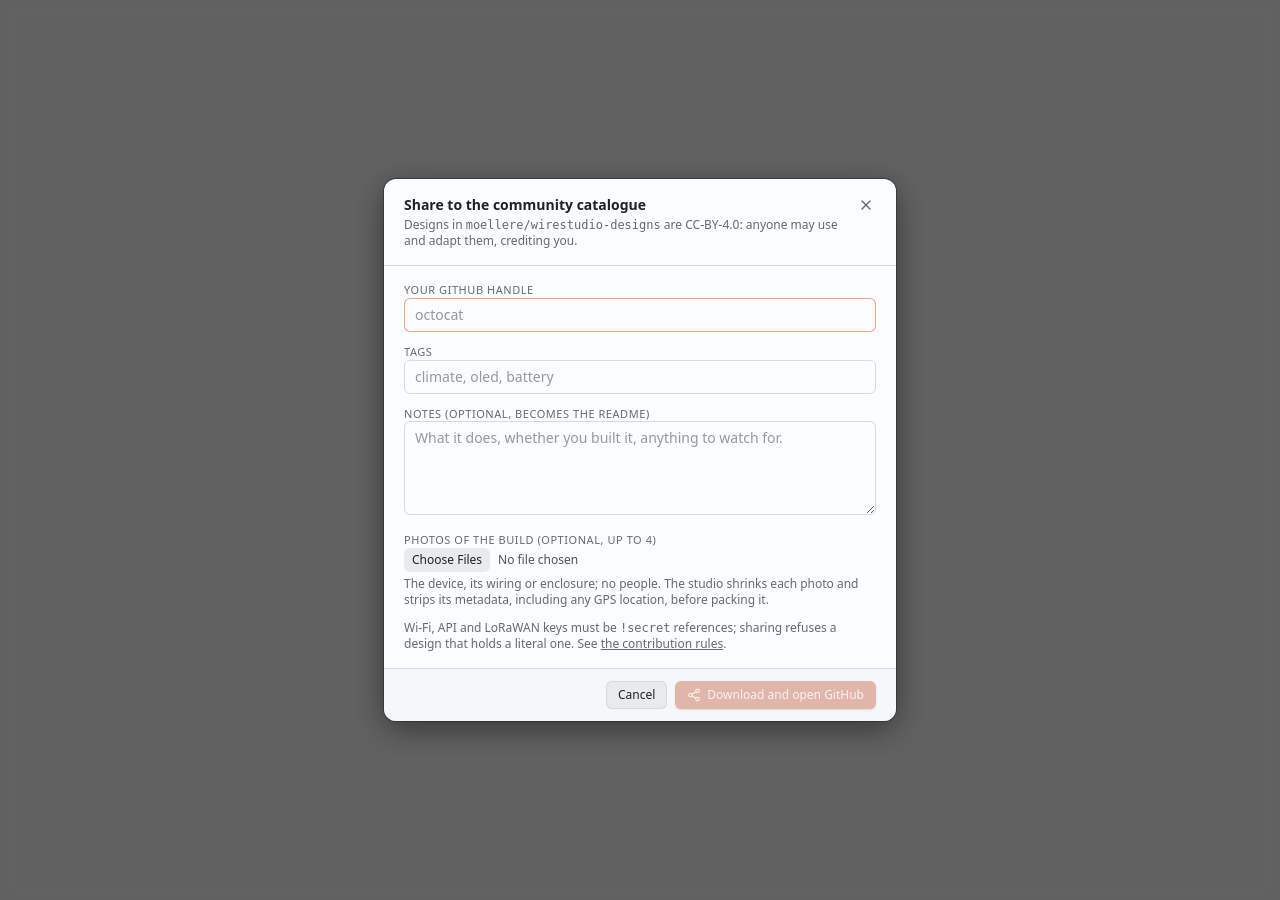
Test case: ShareDialog › shows why the studio refused to share
Type "me" into the field with placeholder "octocat" at (640, 315), box [404, 298, 876, 332]
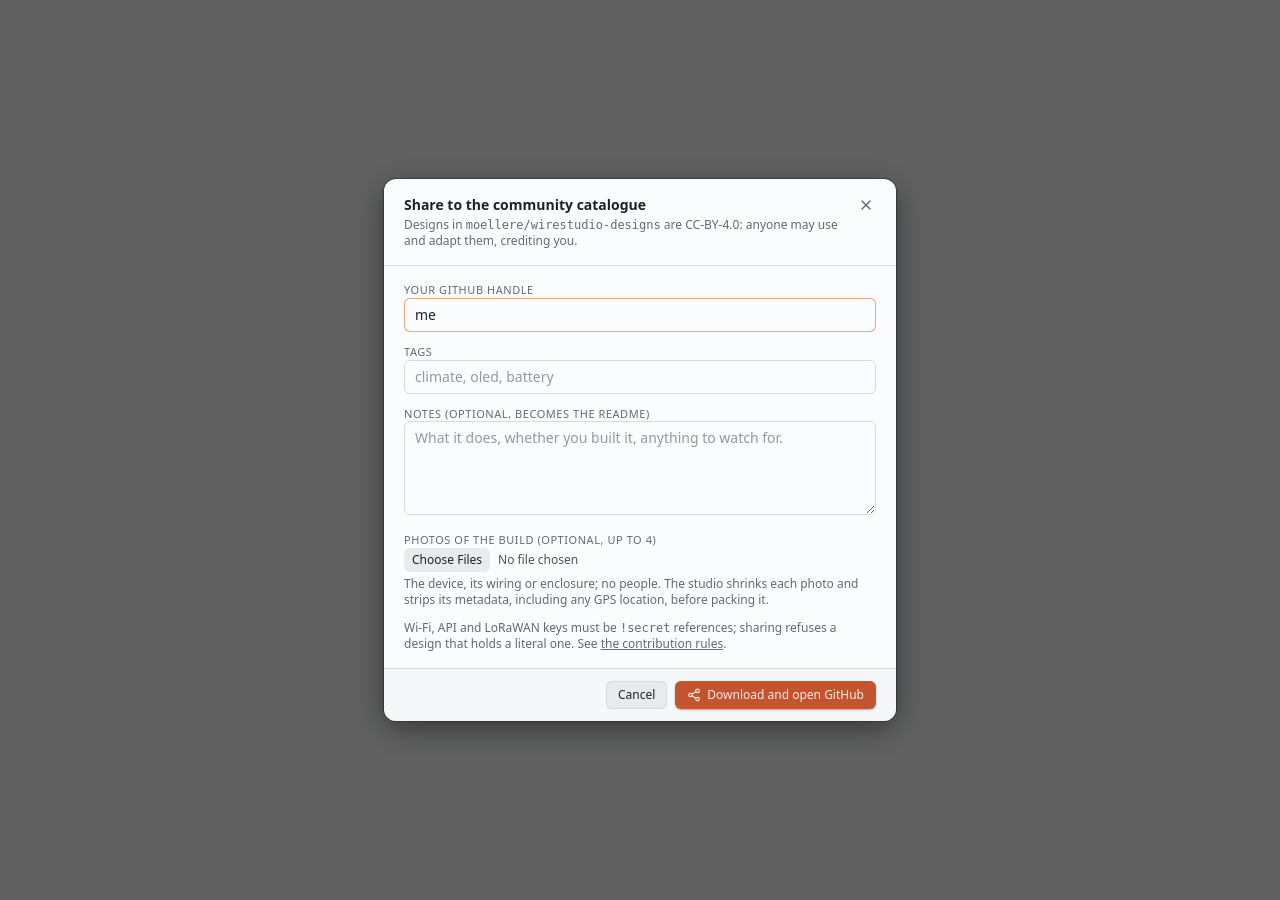
Click the button "Download and open GitHub" at (776, 695), box [675, 681, 876, 709]
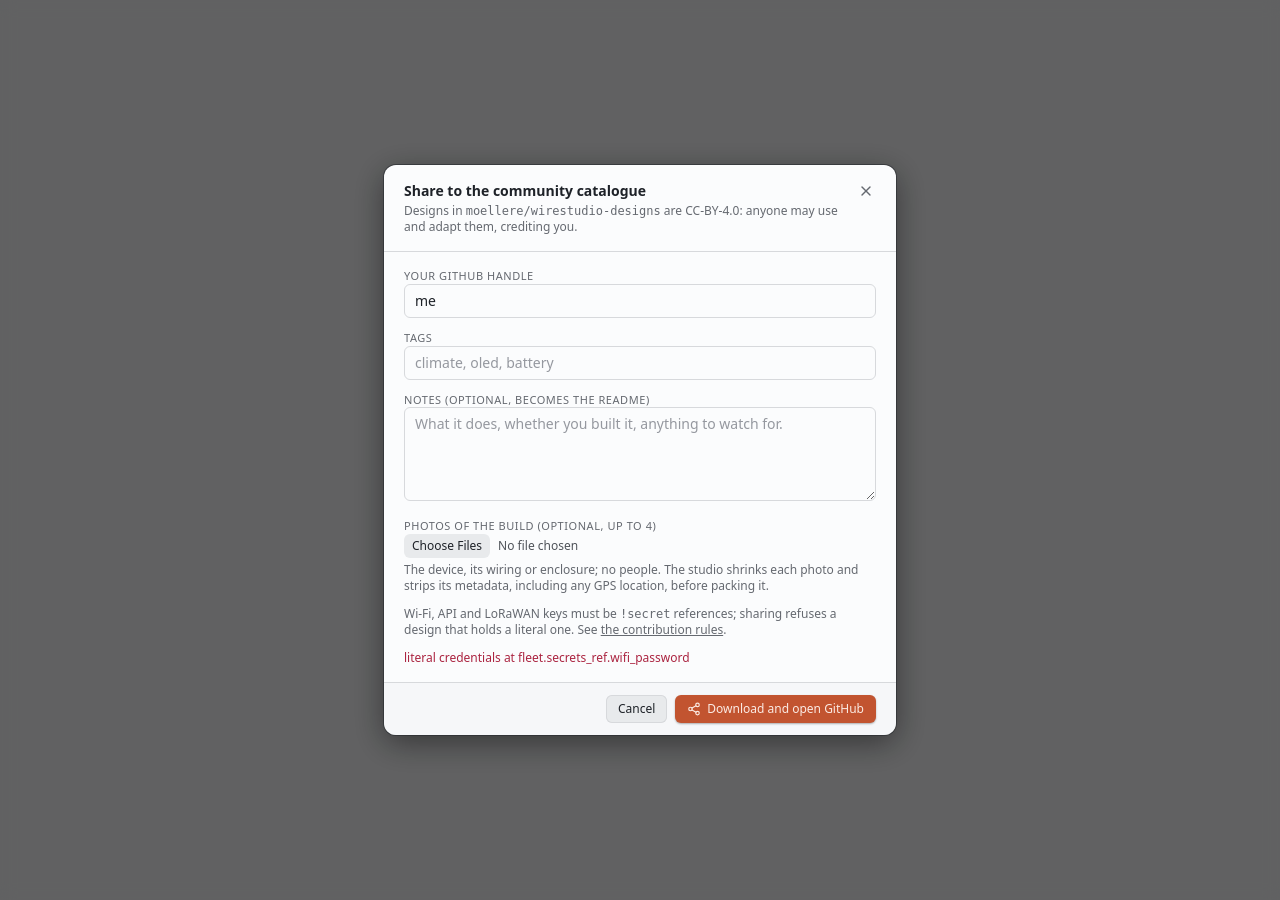
Check: the text "literal credentials at fleet.secrets_ref.wifi_password" is shown, box [404, 649, 690, 666]
